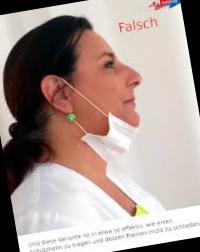mask_weared_incorrect: (83, 38, 159, 165)
